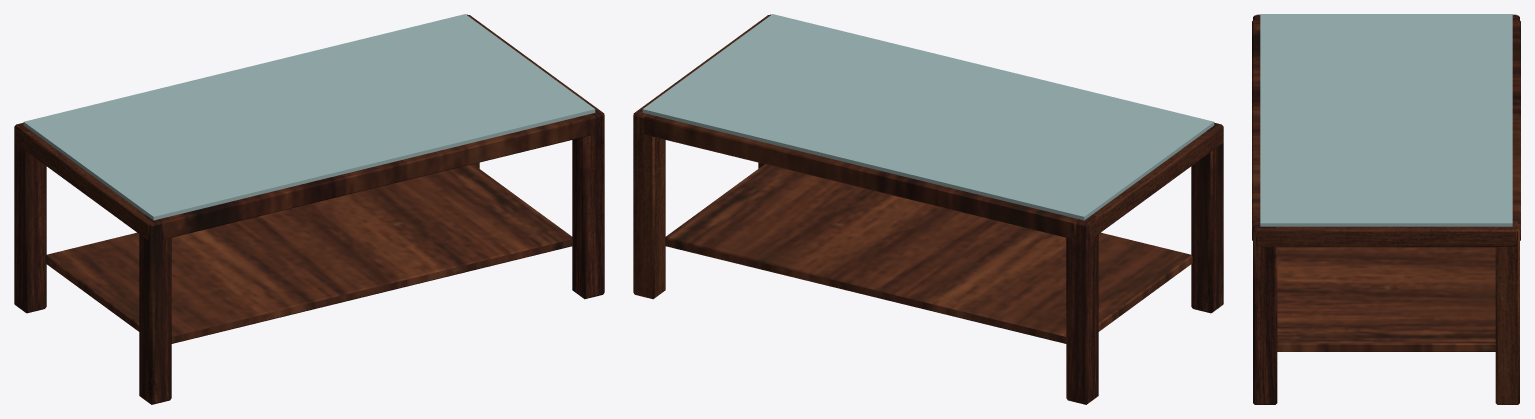
Rendered from CoffeeTable_Glass.fbx.
3 renders of one model, left to right at view 1: azimuth 30°, elevation 25°; view 2: azimuth 150°, elevation 25°; view 3: azimuth 270°, elevation 25°, orthographic. The views are drawn at different scales.
Parts seen in each view (by area): view 1: CoffeeTable_Glass; view 2: CoffeeTable_Glass; view 3: CoffeeTable_Glass.
Boxes of the visible parts, bbox=[...] form: CoffeeTable_Glass: bbox=[14, 14, 604, 404]; CoffeeTable_Glass: bbox=[633, 14, 1223, 404]; CoffeeTable_Glass: bbox=[1252, 14, 1520, 404].
Size of the model in its own units: 1.05 by 0.408 by 0.554.
